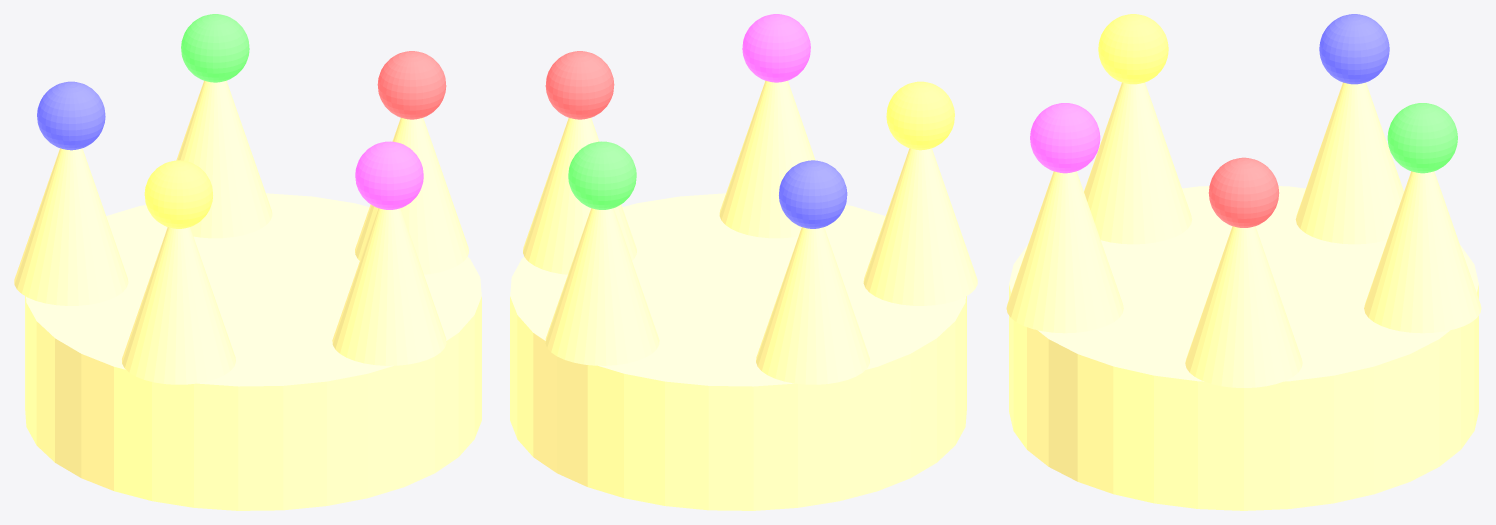
Rendered from crown_premium.glb.
3 views of the same model, side by side, from view 1: azimuth 30°, elevation 25°; view 2: azimuth 150°, elevation 25°; view 3: azimuth 270°, elevation 25° (orthographic). The views are drawn at different scales.
Visible parts, largest first — view 1: Cylinder, Cone.004, Cone.003, Cone.002, Cone.001, Cone, Sphere.001, Sphere.004, Sphere.003, Sphere.002, Sphere; view 2: Cylinder, Cone.001, Cone.002, Cone.003, Cone.004, Cone, Sphere.004, Sphere.001, Sphere.002, Sphere.003, Sphere; view 3: Cylinder, Cone, Cone.001, Cone.004, Cone.002, Cone.003, Sphere.002, Sphere.003, Sphere.001, Sphere.004, Sphere.
Part boxes in pixels (x1,y1,x2,y2): Cylinder: (25,193,481,510); Cone.004: (332,208,446,365); Cone.003: (122,227,235,384); Cone.002: (14,148,128,305); Cone.001: (167,80,272,238); Cone: (355,118,468,274); Sphere.001: (181,14,249,82); Sphere.004: (355,141,423,209); Sphere.003: (144,160,212,228); Sphere.002: (37,81,105,150); Sphere: (377,51,446,119); Cylinder: (510,193,966,510); Cone.001: (545,208,659,365); Cone.002: (756,227,869,384); Cone.003: (863,148,977,305); Cone.004: (719,80,824,238); Cone: (523,118,636,274); Sphere.004: (742,14,810,82); Sphere.001: (568,141,636,209); Sphere.002: (779,160,847,228); Sphere.003: (886,81,954,150); Sphere: (545,51,614,119); Cylinder: (1009,186,1478,510); Cone: (1185,226,1302,387); Cone.001: (1364,171,1481,333); Cone.004: (1006,171,1123,333); Cone.002: (1295,82,1403,244); Cone.003: (1084,82,1192,244); Sphere.002: (1319,14,1389,84); Sphere.003: (1098,14,1168,84); Sphere.001: (1387,103,1457,173); Sphere.004: (1030,103,1100,173); Sphere: (1208,157,1279,227).
Size of the model in its own units: 0.205 by 0.155 by 0.2022.
